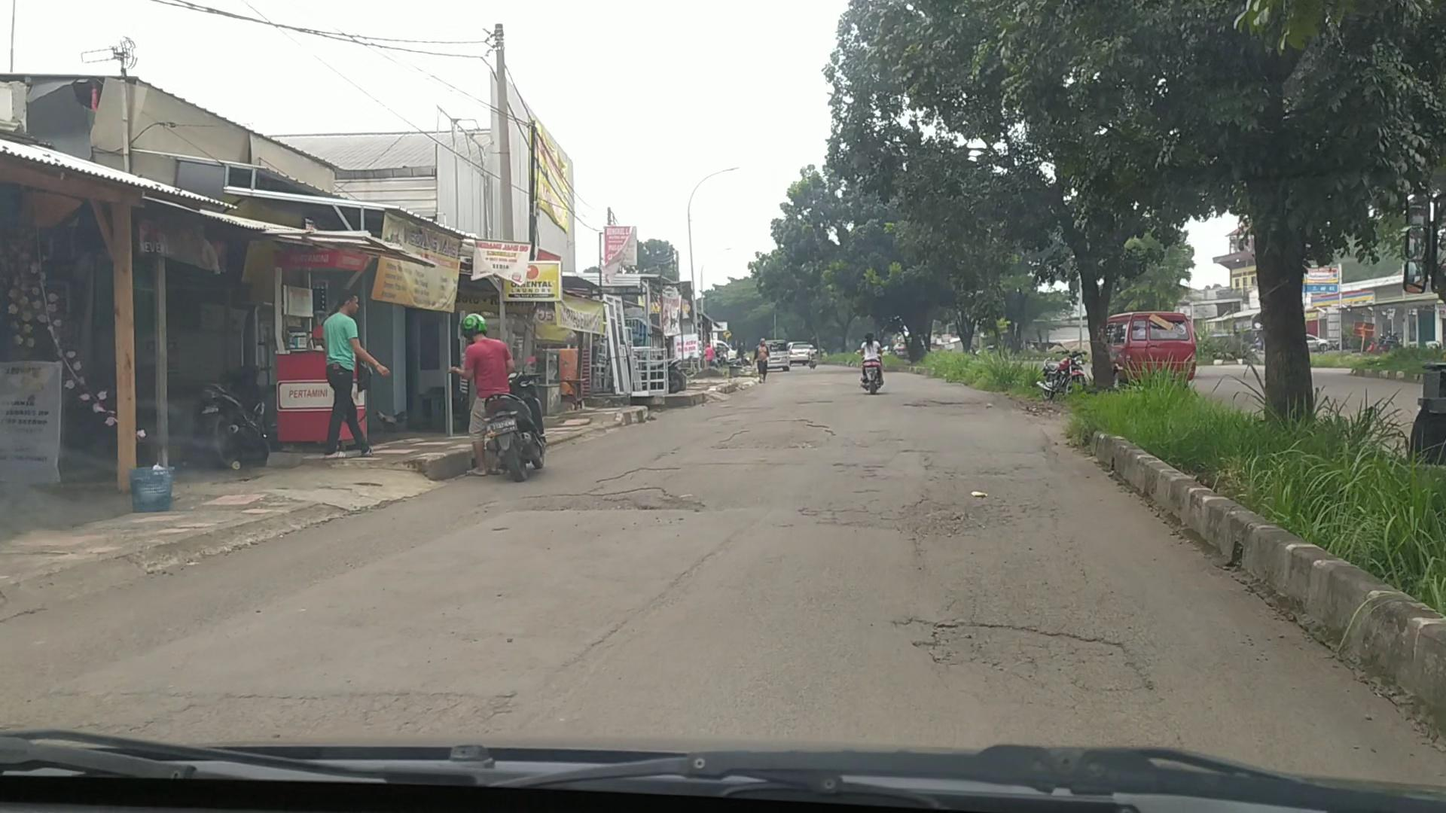pothole: (893, 617, 1151, 698), (492, 485, 704, 513), (716, 418, 837, 449), (596, 466, 685, 486), (901, 397, 988, 410)
